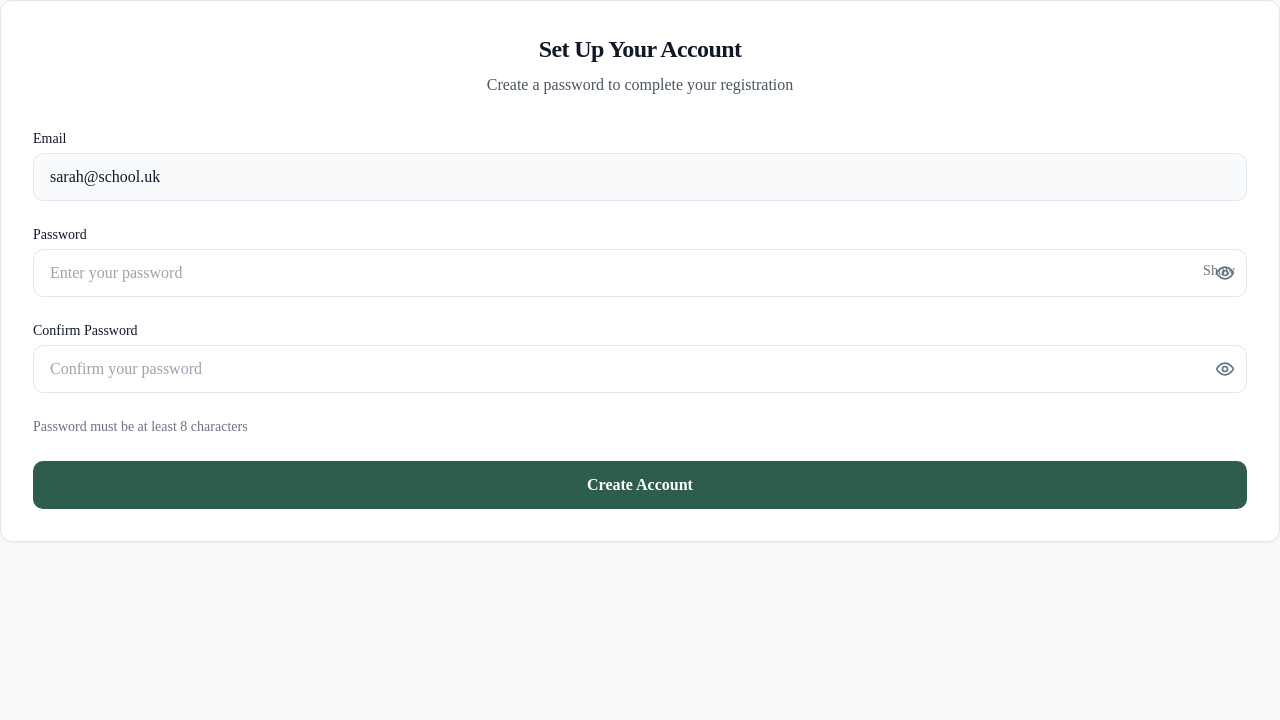
Test: SetupPage › form validation › shows error when password is empty on submit
Expected: the password field labelled "Password" is shown, [33,249,1247,297]
What coordinates should you click on to do the following:
click the button "Create Account"
I would click on:
 (640, 485)
Its box is [33,461,1247,509].
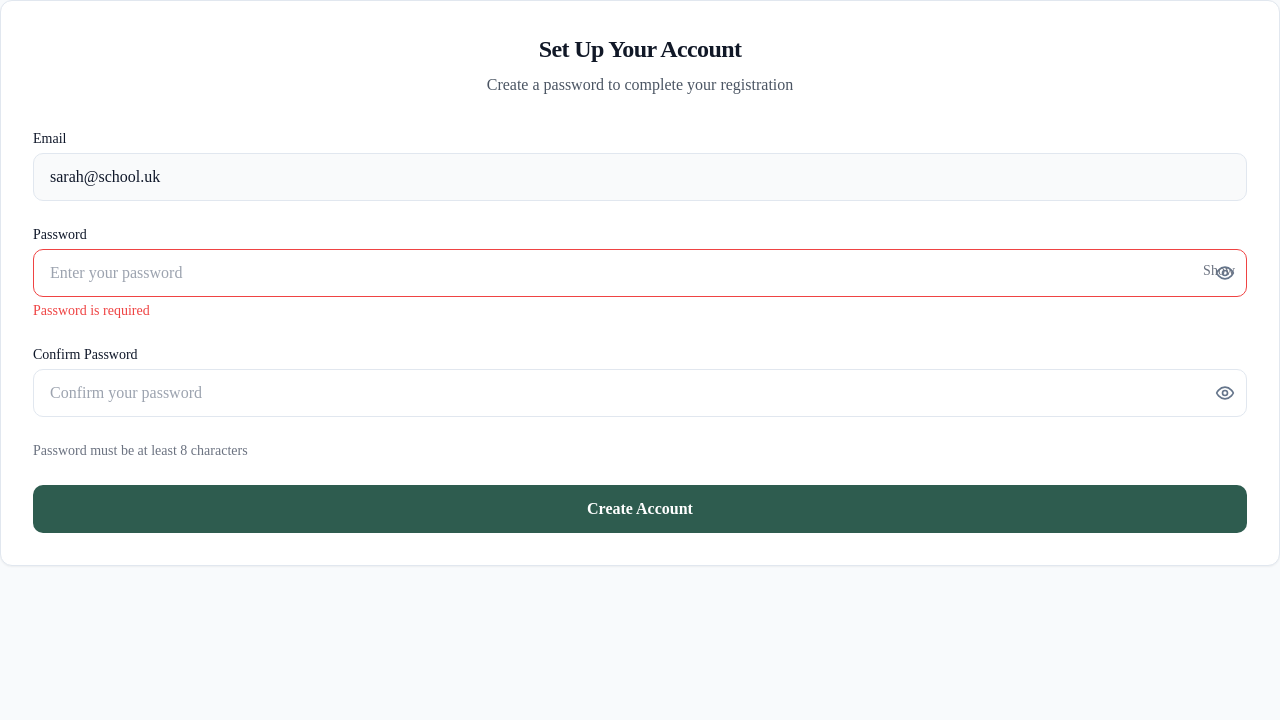
Expected: the text "Password is required" is shown, [33,303,150,318]
